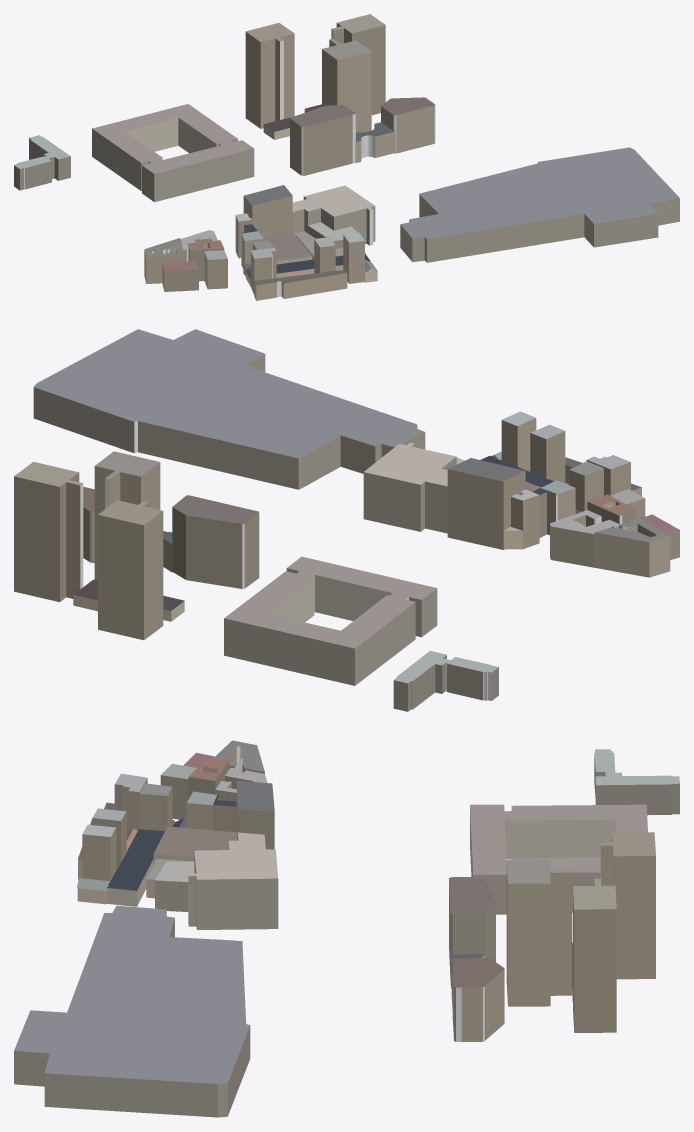
The picture shows the model from 3 angles, top to bottom: view 1: azimuth 30°, elevation 25°; view 2: azimuth 150°, elevation 25°; view 3: azimuth 270°, elevation 25°; orthographic projection. The views are drawn at different scales.
Visible parts, largest first — view 1: tuile; view 2: tuile; view 3: tuile.
Part boxes in pixels (x1,y1,x2,y2): tuile: (14, 14, 679, 300); tuile: (14, 329, 679, 711); tuile: (14, 740, 679, 1117).
Size of the model in its own units: 318 by 56.29 by 268.
